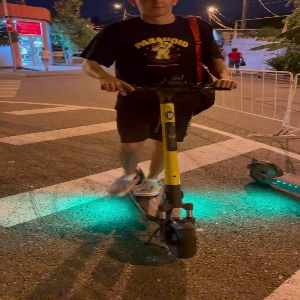human on a scooter: (78, 1, 238, 262)
